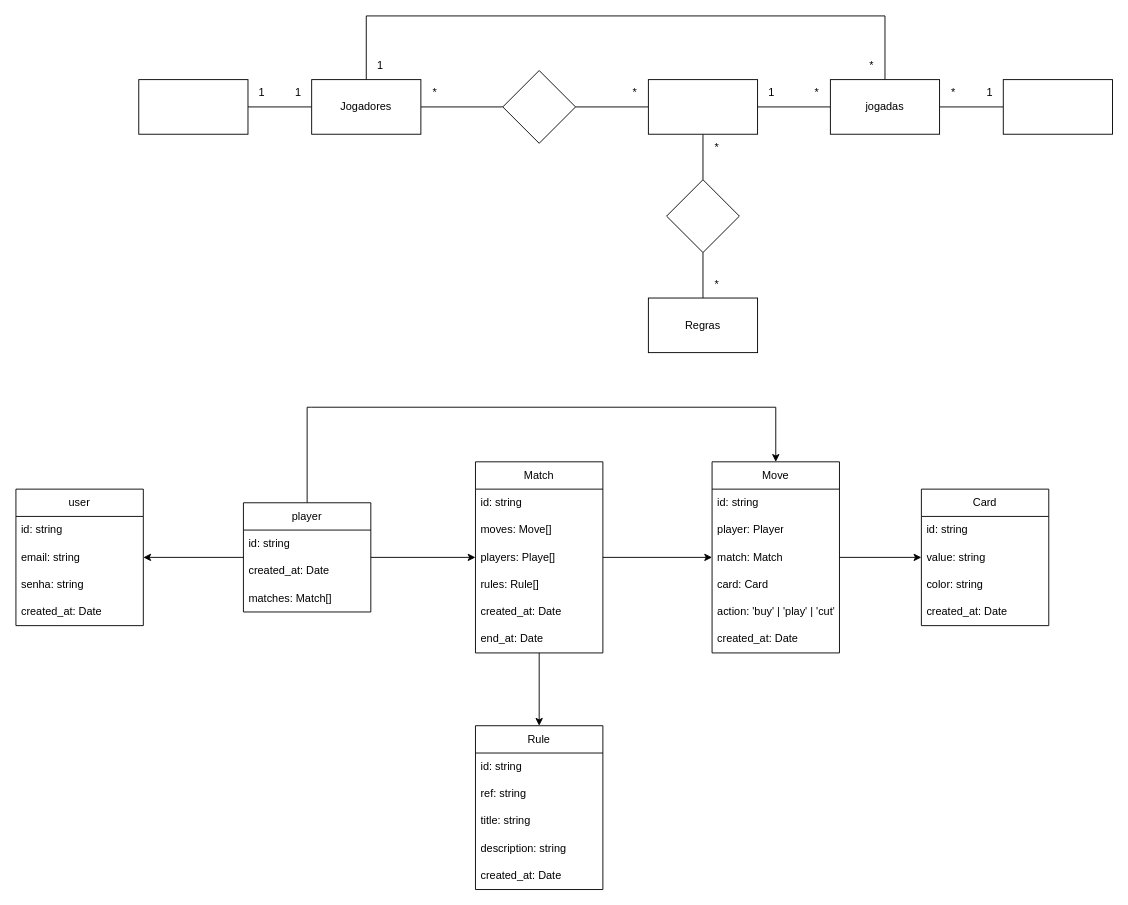
The diagram is 1128 pixels wide and 905 high, and some of its shapes have lost their labels. The shapes that lost their labels are listed below. From the top down, each one's centre as x and y in pixels, then its label:
At [193,106]: "Usuarios".
At [539,106]: "Participa".
At [702,106]: "Partidas".
At [1057,106]: "Cartas".
At [702,216]: "Contém".
